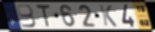2: (78, 4, 97, 29)
4: (121, 3, 136, 28)
6: (59, 4, 77, 28)
B: (16, 4, 38, 28)
K: (98, 4, 119, 28)
T: (35, 4, 52, 29)
